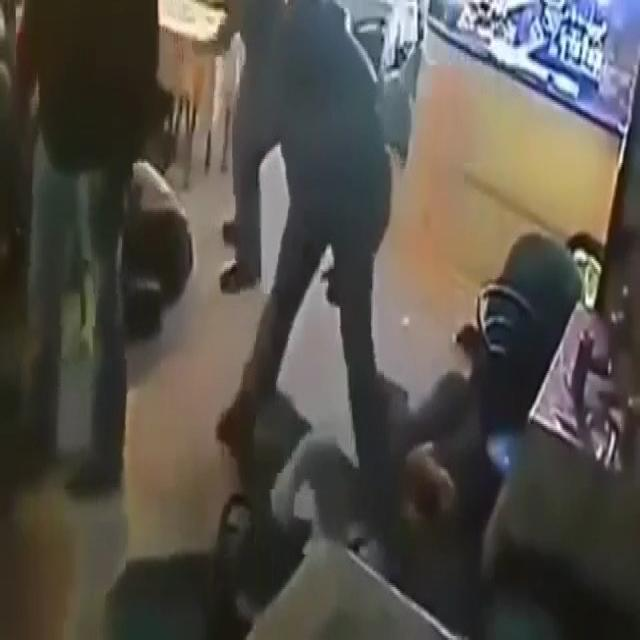fight: (248, 223, 510, 599)
